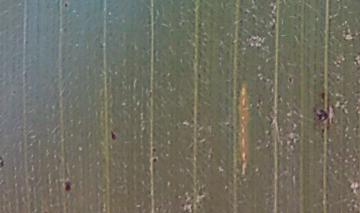tarspot: (311, 102, 333, 126), (61, 178, 75, 192), (107, 128, 119, 142), (286, 73, 296, 86), (149, 144, 159, 154), (149, 155, 159, 164), (1, 155, 7, 170), (62, 2, 71, 10)
